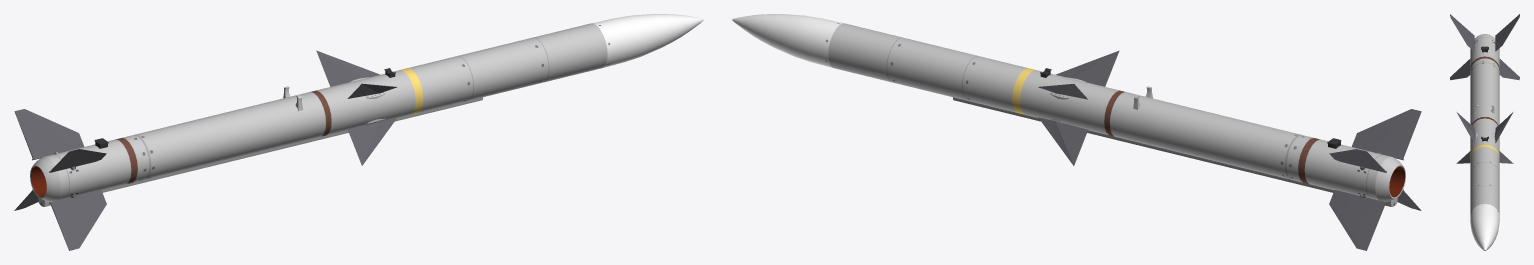
The model's file is Aim-120.obj.
The picture shows the model from 3 angles, left to right: view 1: azimuth 30°, elevation 25°; view 2: azimuth 150°, elevation 25°; view 3: azimuth 270°, elevation 25°; orthographic projection. The views are drawn at different scales.
Parts seen in each view (by area): view 1: Aim-120_Cube.003; view 2: Aim-120_Cube.003; view 3: Aim-120_Cube.003.
Part boxes in pixels (x1,y1,x2,y2): Aim-120_Cube.003: (14, 14, 703, 250); Aim-120_Cube.003: (732, 14, 1421, 250); Aim-120_Cube.003: (1450, 14, 1519, 250).
Bounding box in the file's own units: 3.7 × 0.5305 × 0.5305.
Materials: 1 (1 with a texture image).
